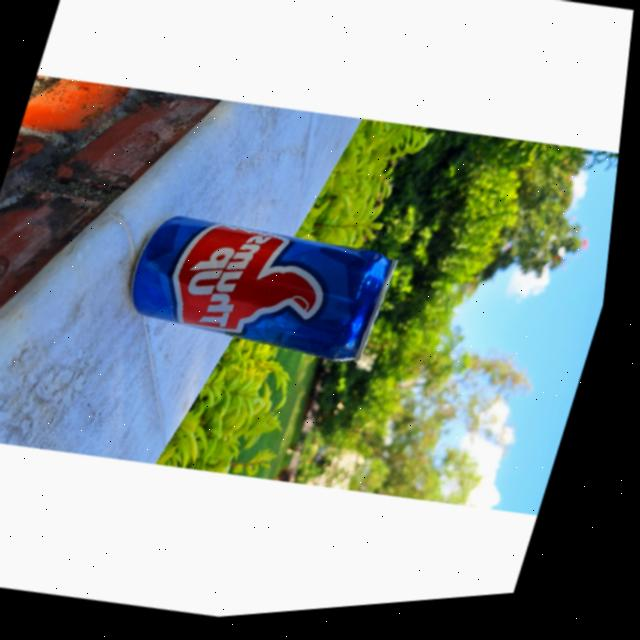Thums Up: (122, 197, 410, 381)
